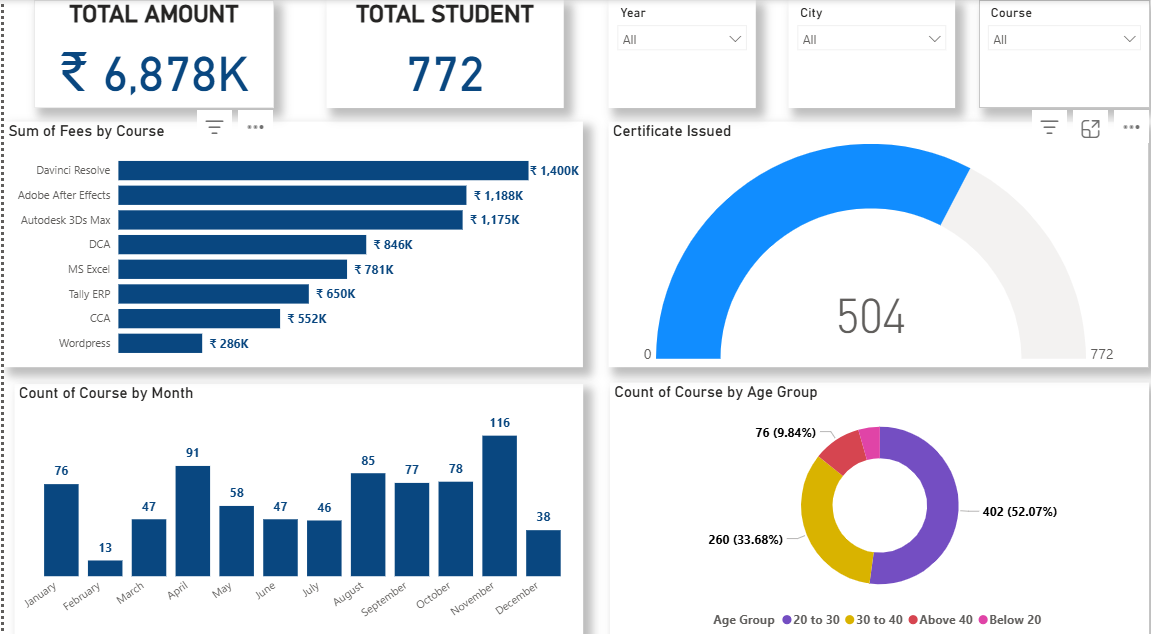

The page's visual inventory and layout, read from the dashboard file:
{"tool":"powerbi","page":{"name":"Page 1","canvas":[1280,720],"ordinal":0},"visuals":[{"type":"clusteredColumnChart","fields":{"Category":["Student Course Details.Date of Join.Variation.Date Hierarchy.Year","Student Course Details.Date of Join.Variation.Date Hierarchy.Quarter","Student Course Details.Date of Join.Variation.Date Hierarchy.Month","Student Course Details.Date of Join.Variation.Date Hierarchy.Day"],"Y":["Student Course Details.Course"]},"box":[11.6,424.1,627.8,279.9],"z":0},{"type":"donutChart","title":"Count of Course by Age Group","fields":{"Y":["Student Course Details.Course"],"Category":["Student Course Details.Age Group"]},"box":[669.6,422.1,595.3,280.9],"z":1000},{"type":"clusteredBarChart","fields":{"Category":["Student Course Details.Course"],"Y":["Student Course Details.Fees"]},"box":[0,134.2,639.4,271.7],"z":2000},{"type":"card","title":"TOTAL AMOUNT","fields":{"Values":["Student Course Details.Fees"]},"box":[33.5,0,264.9,119.4],"z":3000},{"type":"card","title":"TOTAL STUDENT","fields":{"Values":["Personal Details.Student Name"]},"box":[356.1,0,261.7,119.3],"z":4000},{"type":"gauge","fields":{"Y":["Personal Details.CountYes"]},"box":[667.6,134.2,596.3,271.7],"z":5000},{"type":"slicer","fields":{"Values":["Student Course Details.Date of Join.Variation.Date Hierarchy.Year"]},"box":[667.6,0,162.3,119.3],"z":6000},{"type":"slicer","fields":{"Values":["Personal Details.City"]},"box":[866.3,0,183.9,119.3],"z":7000},{"type":"slicer","fields":{"Values":["Student Course Details.Course"]},"box":[1076.7,0,188.8,119.3],"z":8000}]}

Visuals, with their boxes in screenshot pixels (x1, y1, x2, y2), scaled from the page's 1280x720 canvas onto the 1151x634 screenshot:
clusteredColumnChart - Student Course Details.Date of Join.Variation.Date Hierarchy.Year x Student Course Details.Date of Join.Variation.Date Hierarchy.Quarter: x1=10 y1=373 x2=575 y2=620
"Count of Course by Age Group" donutChart: x1=602 y1=372 x2=1137 y2=619
clusteredBarChart - Student Course Details.Course x Student Course Details.Fees: x1=0 y1=118 x2=575 y2=357
"TOTAL AMOUNT" card: x1=30 y1=0 x2=268 y2=105
"TOTAL STUDENT" card: x1=320 y1=0 x2=556 y2=105
gauge - Personal Details.CountYes: x1=600 y1=118 x2=1137 y2=357
slicer - Student Course Details.Date of Join.Variation.Date Hierarchy.Year: x1=600 y1=0 x2=746 y2=105
slicer - Personal Details.City: x1=779 y1=0 x2=944 y2=105
slicer - Student Course Details.Course: x1=968 y1=0 x2=1138 y2=105
